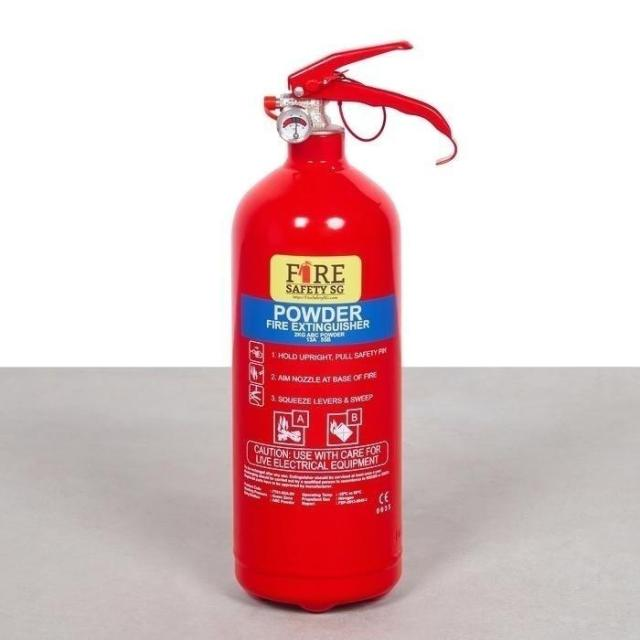fire_extinguisher: (215, 27, 463, 619)
